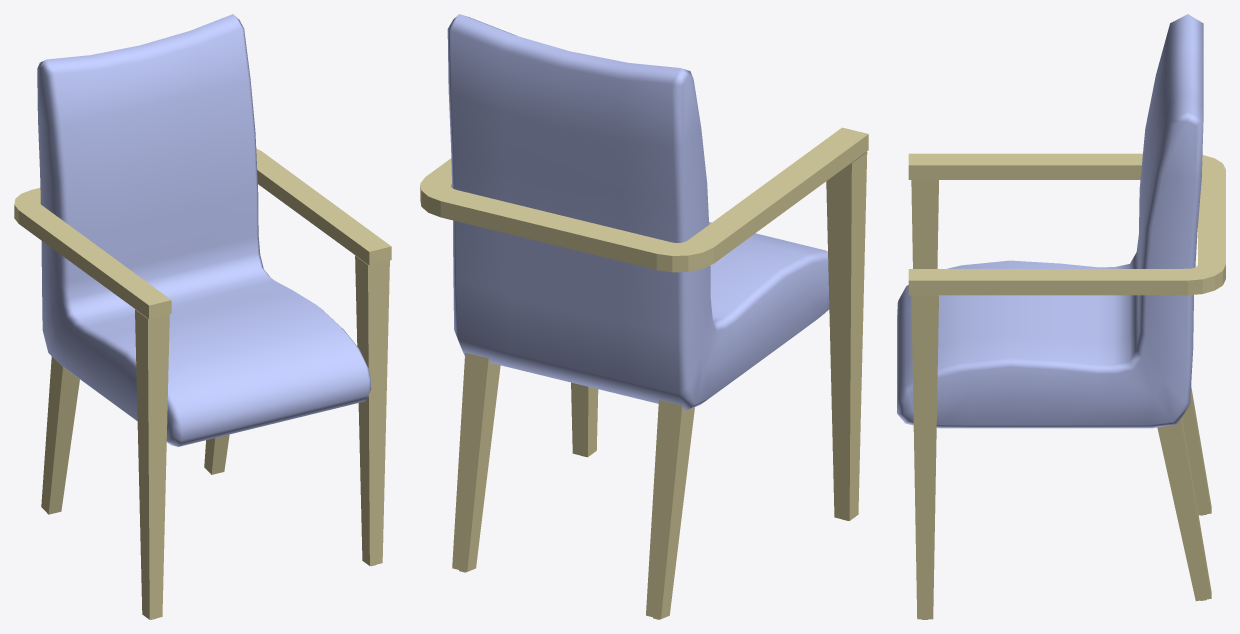
3 renders of one model, left to right at view 1: azimuth 30°, elevation 25°; view 2: azimuth 150°, elevation 25°; view 3: azimuth 270°, elevation 25°, orthographic. The views are drawn at different scales.
Visible parts, largest first — view 1: chair1; view 2: chair1; view 3: chair1.
Boxes of the visible parts, box(x1,y1,x2,y2) form: chair1: box(14, 14, 391, 619); chair1: box(420, 14, 868, 619); chair1: box(897, 14, 1225, 619).
Bounding box in the file's own units: 53.65 × 98.2 × 58.7.
